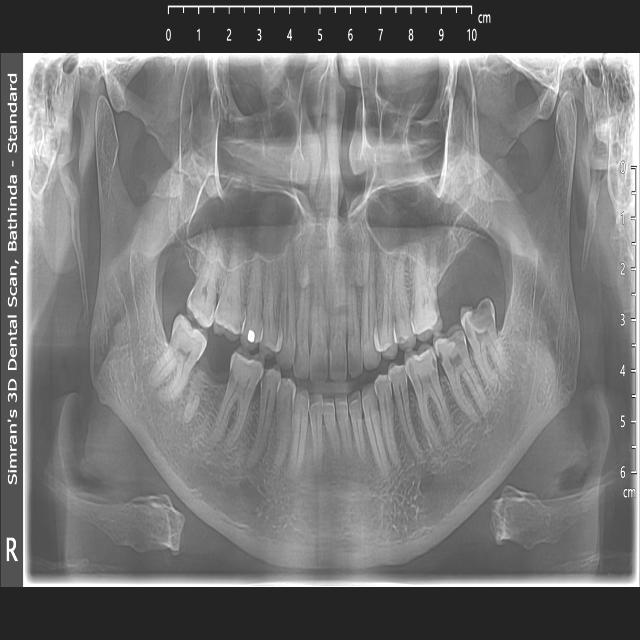Caries: (227, 344, 264, 397), (434, 325, 470, 376), (406, 343, 440, 392), (413, 289, 442, 336), (242, 309, 263, 350), (469, 301, 493, 333), (267, 362, 279, 393)
Missing teeth: (191, 352, 228, 409), (438, 242, 474, 300)
Periapical lesion: (243, 432, 271, 478)
Root Piece: (182, 386, 201, 424)
